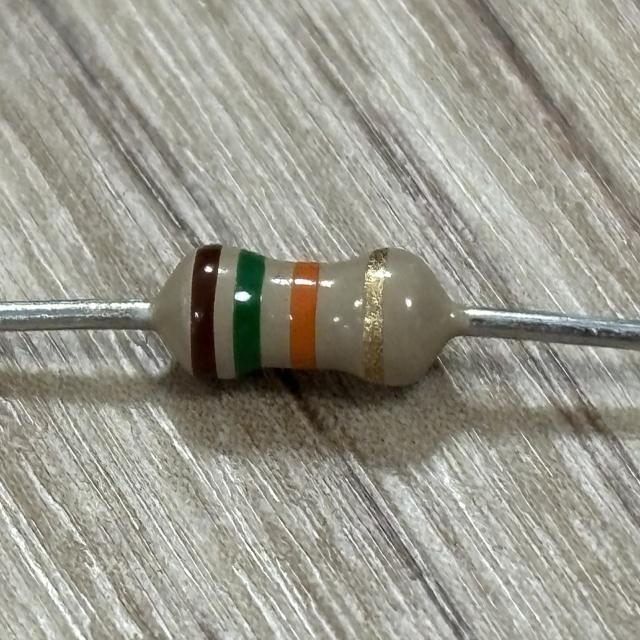resistor: (178, 240, 432, 393)
